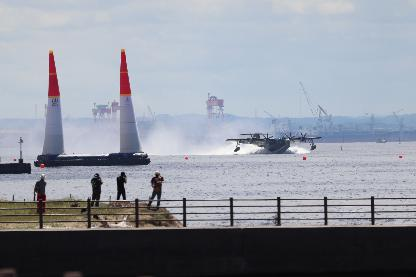Tu95: (226, 132, 320, 153)
